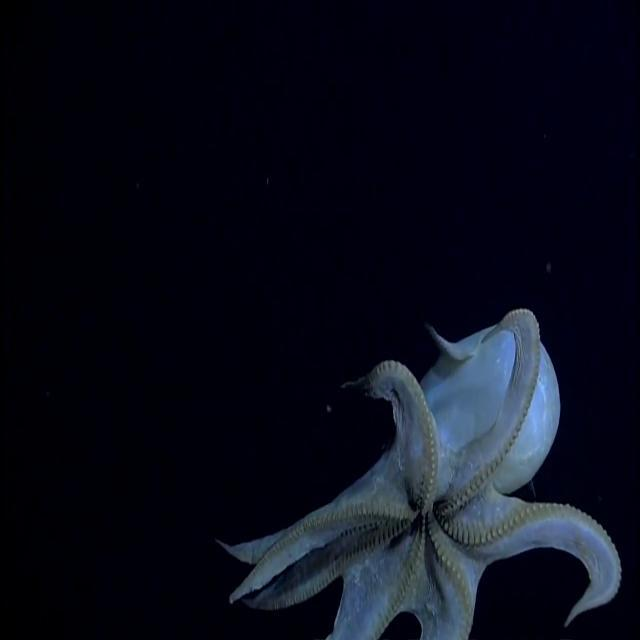octopus: (204, 295, 626, 640)
